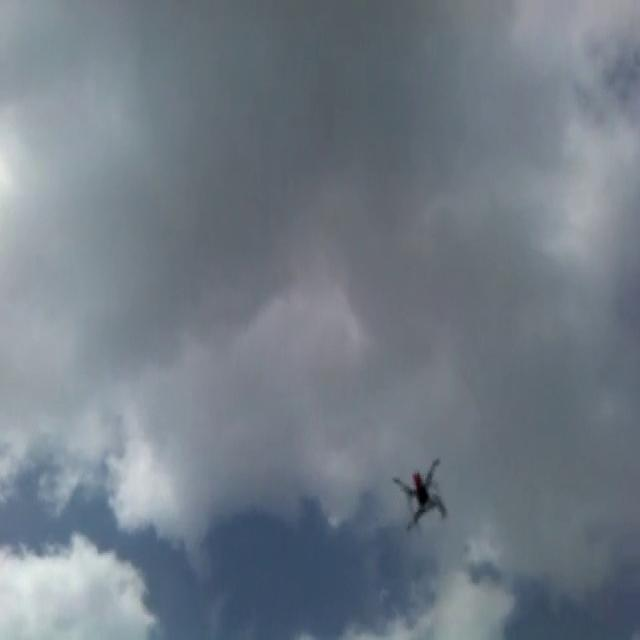drone: (390, 448, 450, 533)
